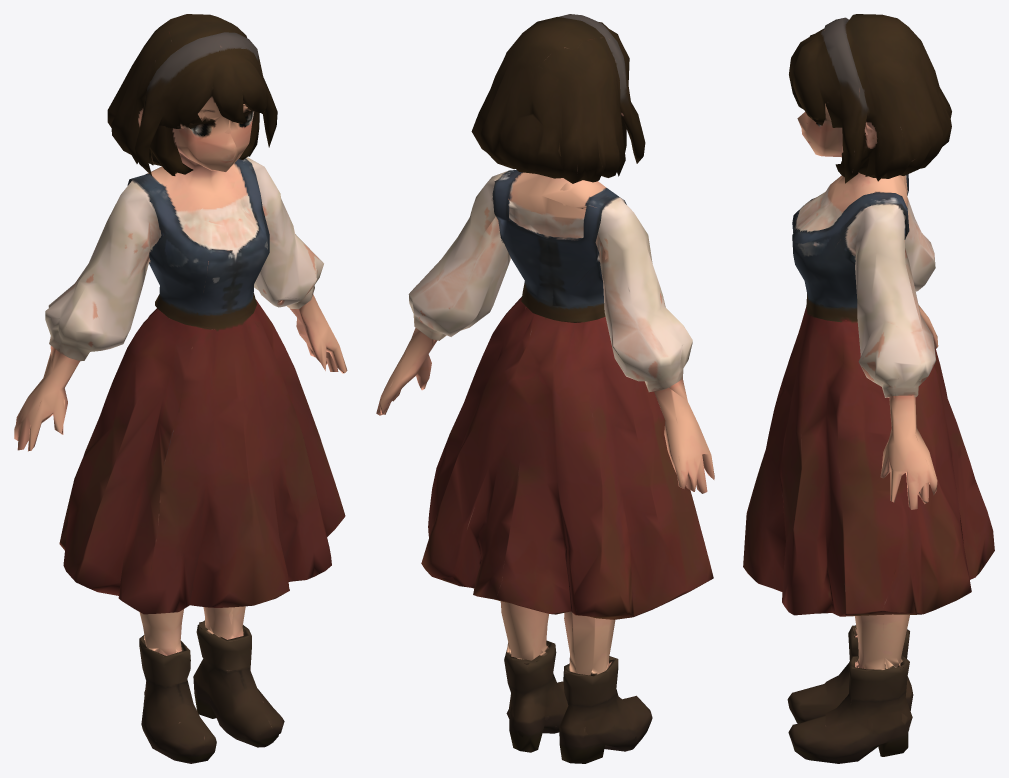
File: generated_textured.glb
The picture shows the model from 3 angles, left to right: view 1: azimuth 30°, elevation 25°; view 2: azimuth 150°, elevation 25°; view 3: azimuth 270°, elevation 25°; orthographic projection.
Size of the model in its own units: 0.4671 by 0.9874 by 0.3137.
1 material, 1 textured.
